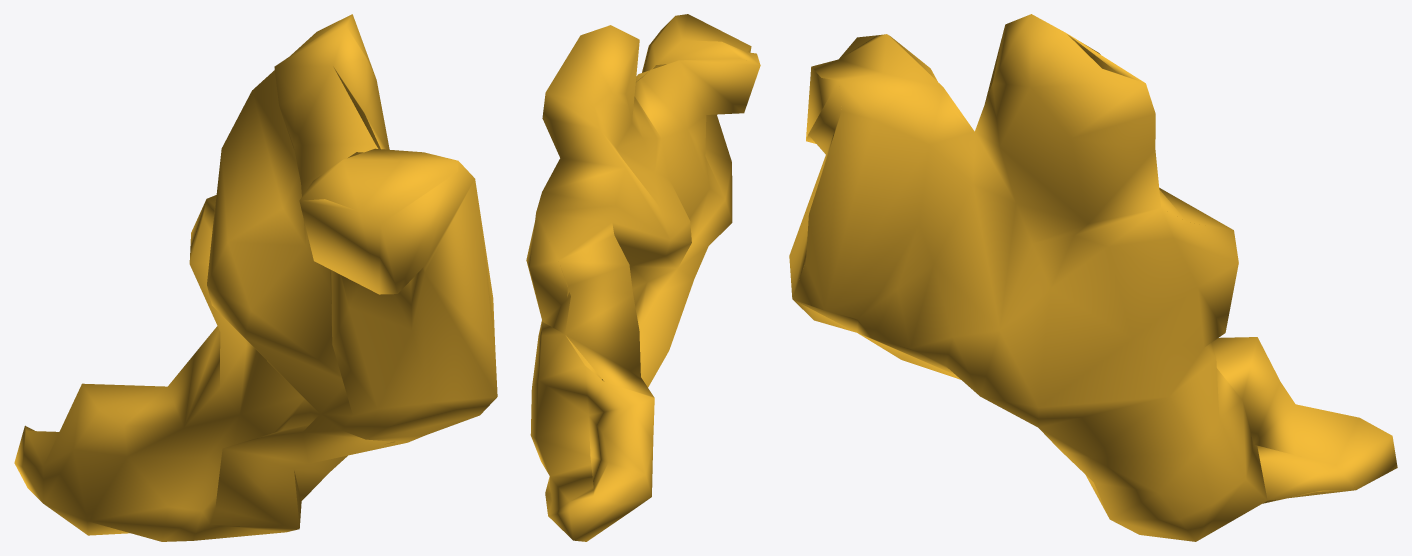
File: nervoso-cingulate-gyrus-and-sulcus-posterior-dorsal-part-r.glb
The picture shows the model from 3 angles, left to right: view 1: azimuth 30°, elevation 25°; view 2: azimuth 150°, elevation 25°; view 3: azimuth 270°, elevation 25°; orthographic projection. The views are drawn at different scales.
Parts seen in each view (by area): view 1: Cingulate gyrus and sulcus (Posterior dorsal part).r; view 2: Cingulate gyrus and sulcus (Posterior dorsal part).r; view 3: Cingulate gyrus and sulcus (Posterior dorsal part).r.
Part boxes in pixels (box(x1,y1,x2,y2)): Cingulate gyrus and sulcus (Posterior dorsal part).r: box(14, 14, 497, 541); Cingulate gyrus and sulcus (Posterior dorsal part).r: box(526, 14, 760, 541); Cingulate gyrus and sulcus (Posterior dorsal part).r: box(789, 14, 1397, 541).
Size of the model in its own units: 0.0131 by 0.033 by 0.034.
